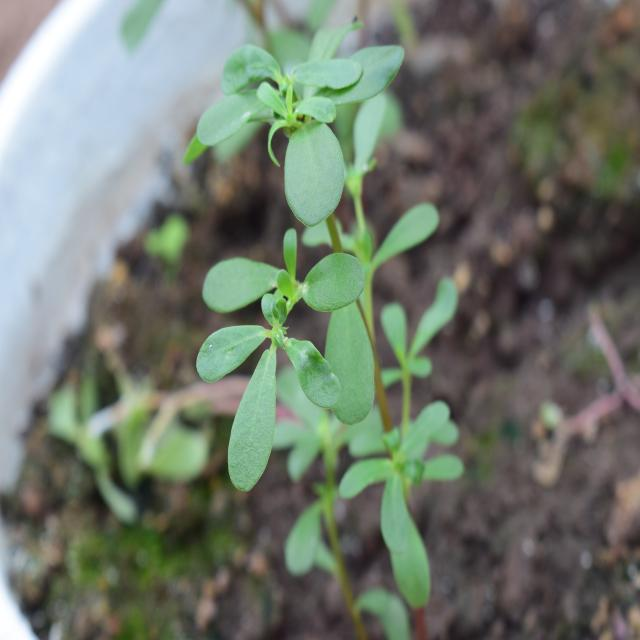purslane: (189, 11, 456, 596)
